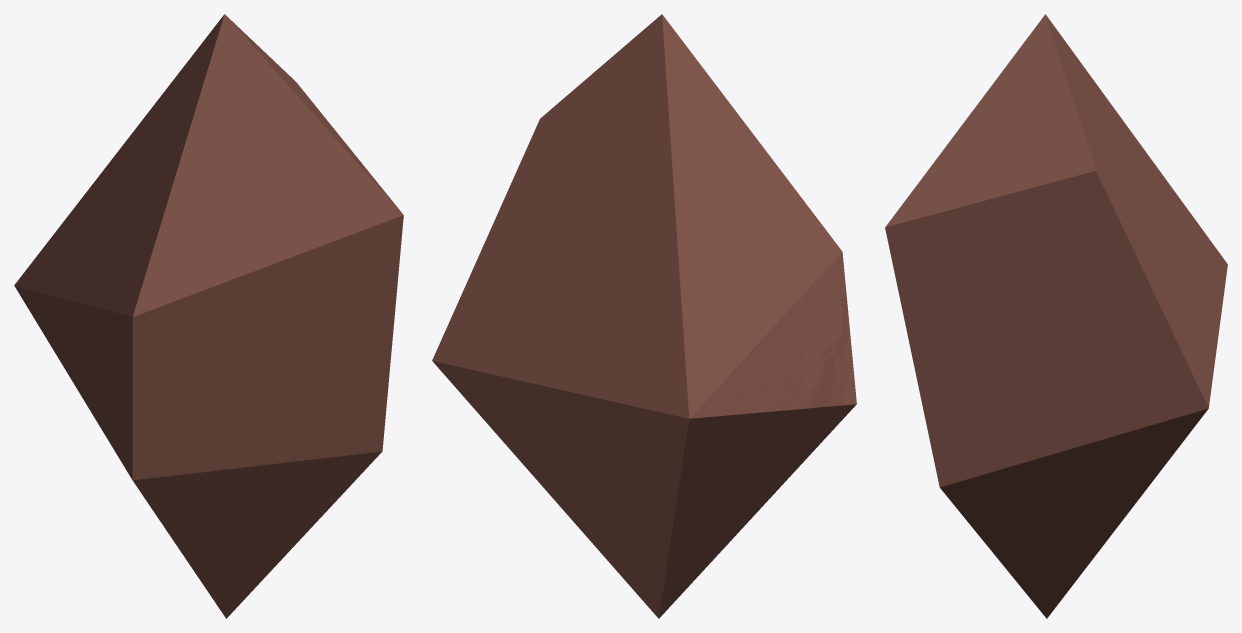
The model's file is Rock4.fbx.
3 renders of one model, left to right at view 1: azimuth 30°, elevation 25°; view 2: azimuth 150°, elevation 25°; view 3: azimuth 270°, elevation 25°, orthographic.
Parts seen in each view (by area): view 1: Rock4; view 2: Rock4; view 3: Rock4.
Part boxes in pixels (left/top/right/bottom): Rock4: left=14, top=14, right=403, bottom=618; Rock4: left=432, top=14, right=856, bottom=618; Rock4: left=885, top=14, right=1227, bottom=618.
Size of the model in its own units: 0.3284 by 0.6512 by 0.3352.
